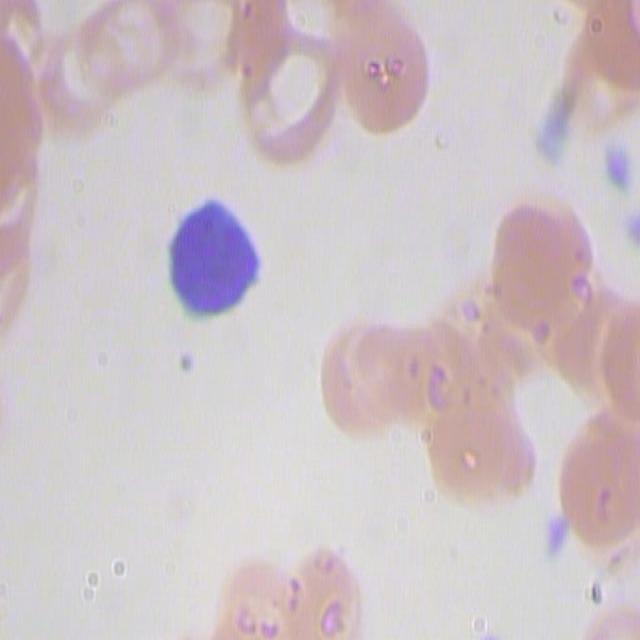RBC: (481, 187, 617, 371), (13, 2, 153, 138), (232, 21, 341, 176), (321, 0, 430, 146), (143, 2, 263, 105), (559, 414, 640, 561), (427, 307, 516, 430), (323, 311, 413, 431), (427, 408, 535, 508), (284, 543, 371, 638), (593, 280, 640, 439)
WBC: (159, 198, 270, 328)
platelets: (529, 90, 583, 180), (600, 122, 640, 205), (533, 506, 572, 570)
